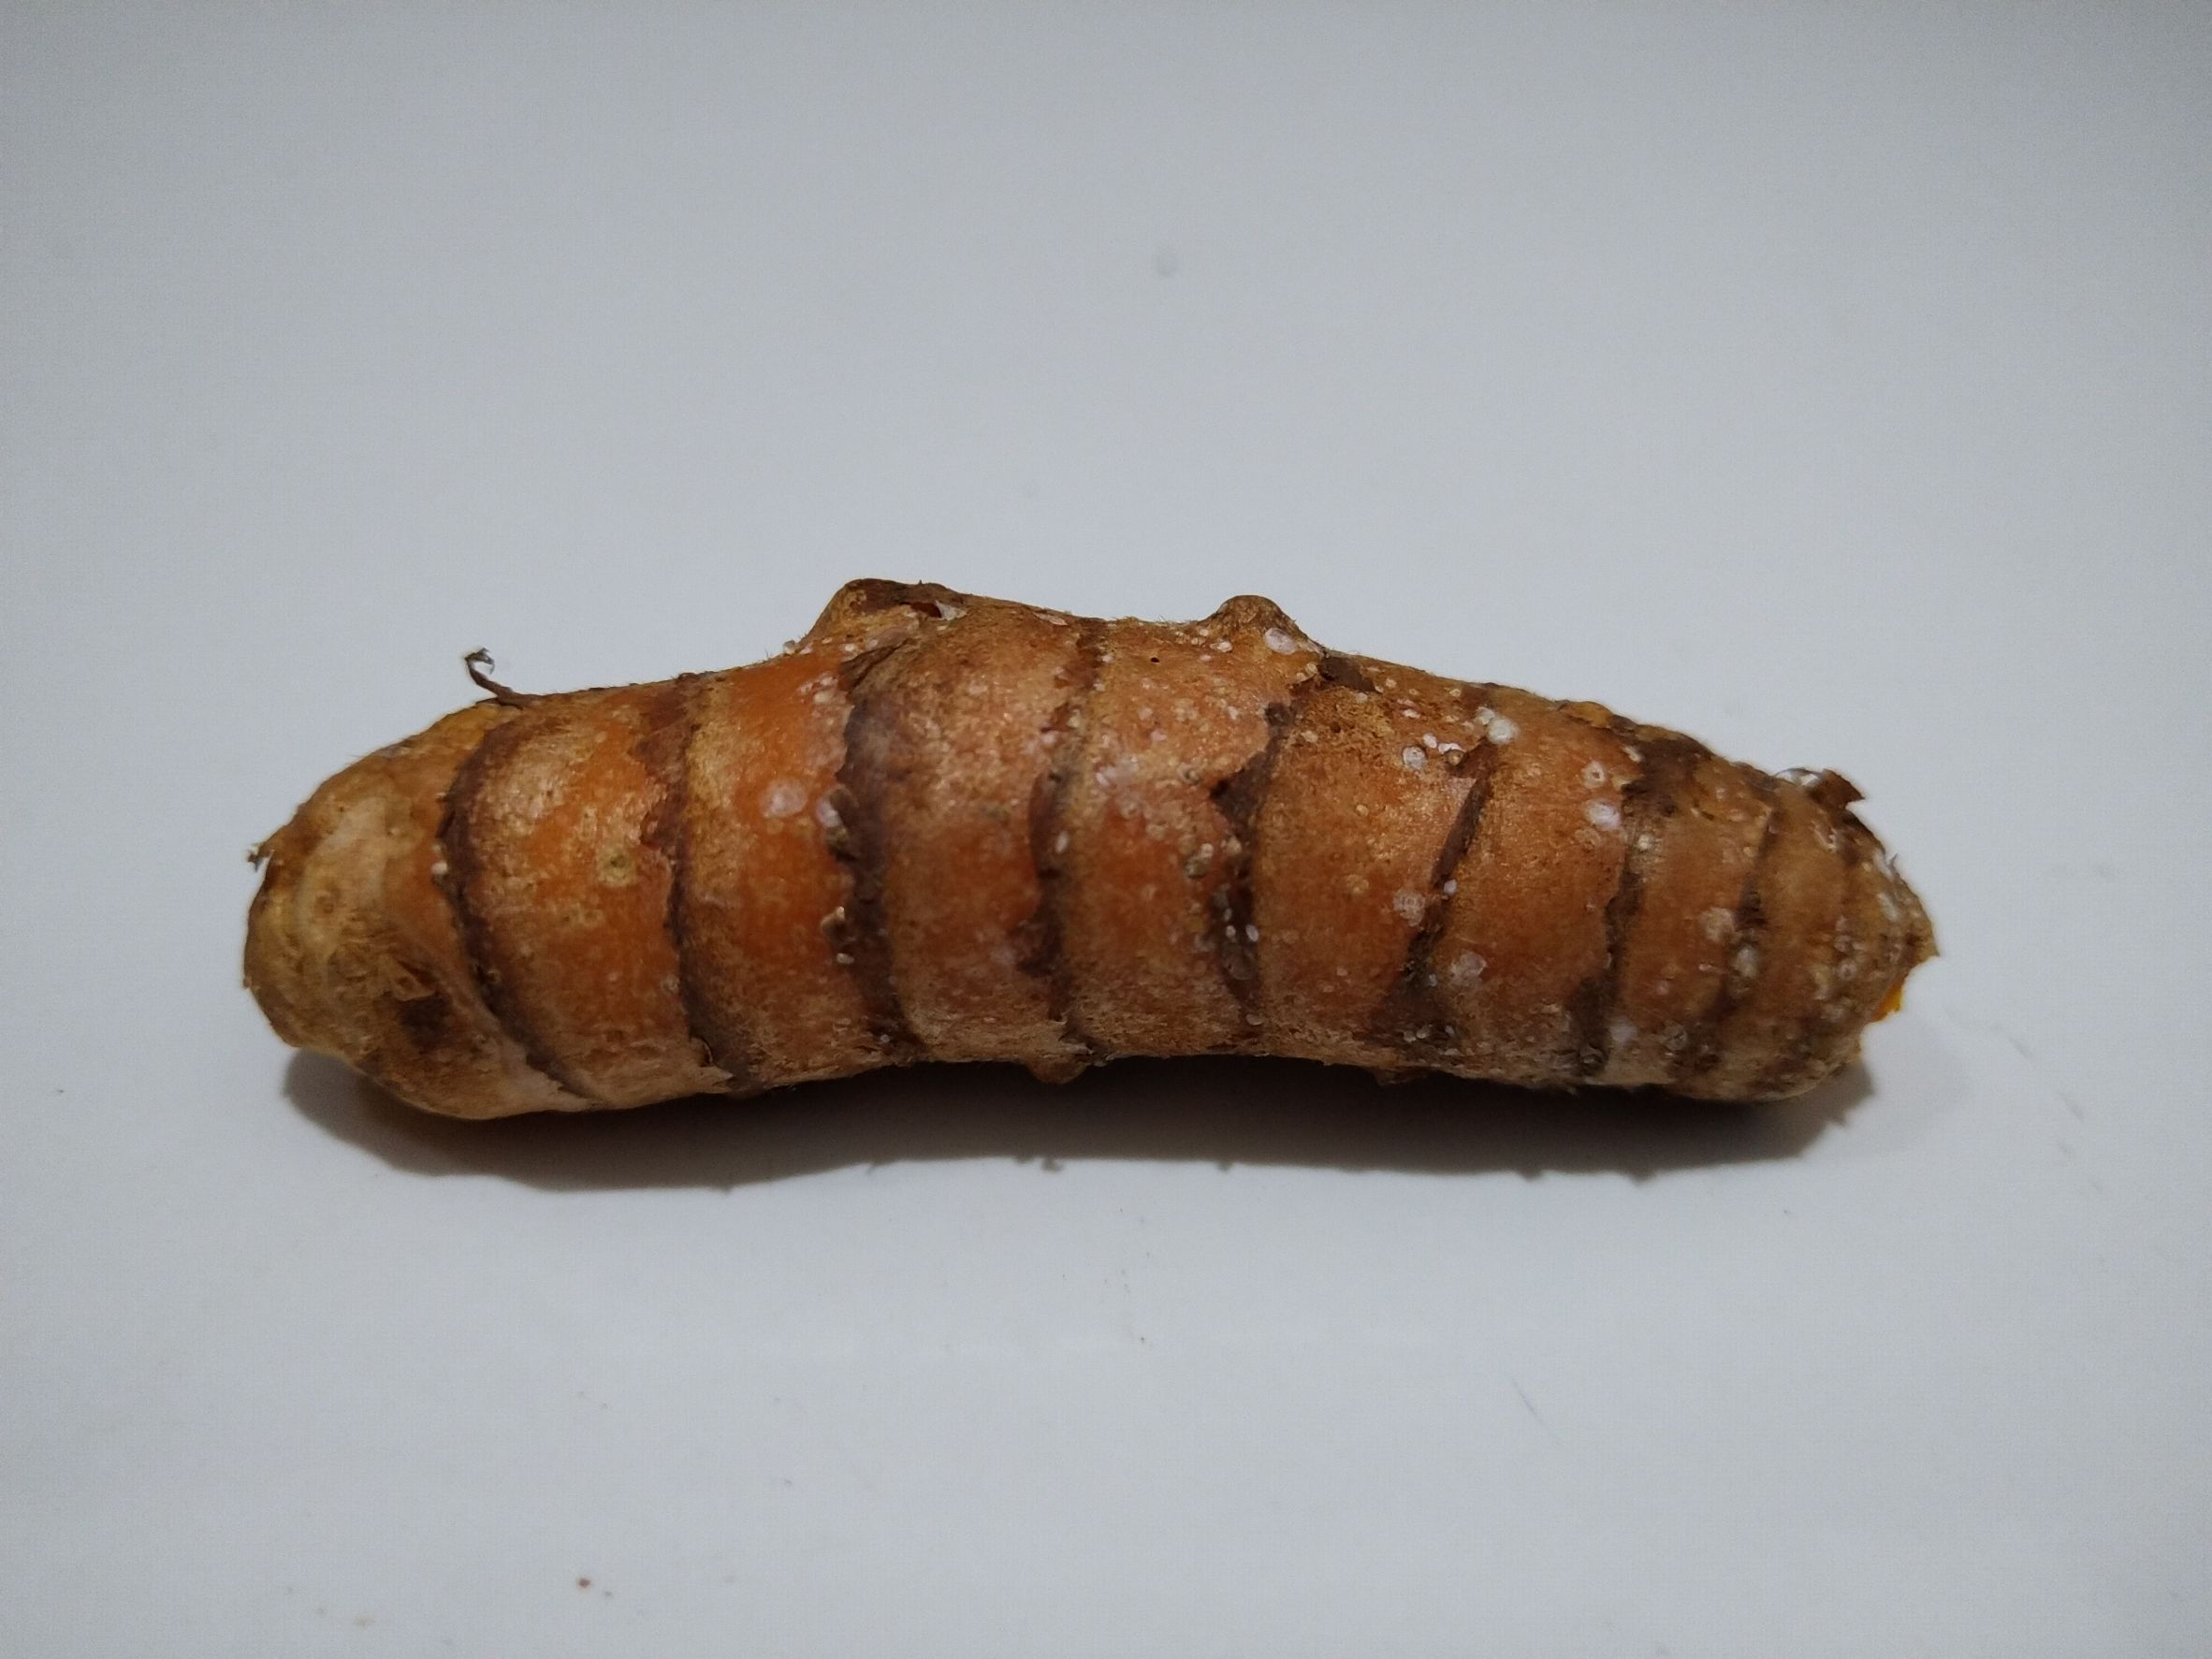Kunyit: (254, 599, 1921, 1204)
